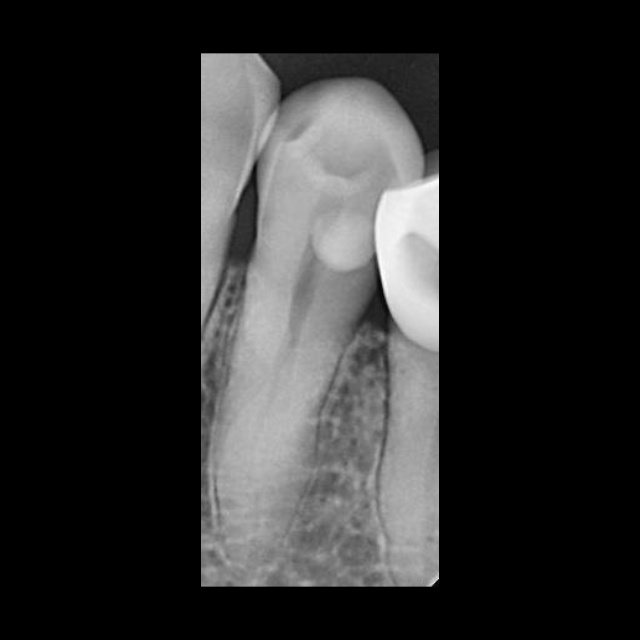tooth: (214, 77, 424, 582)
